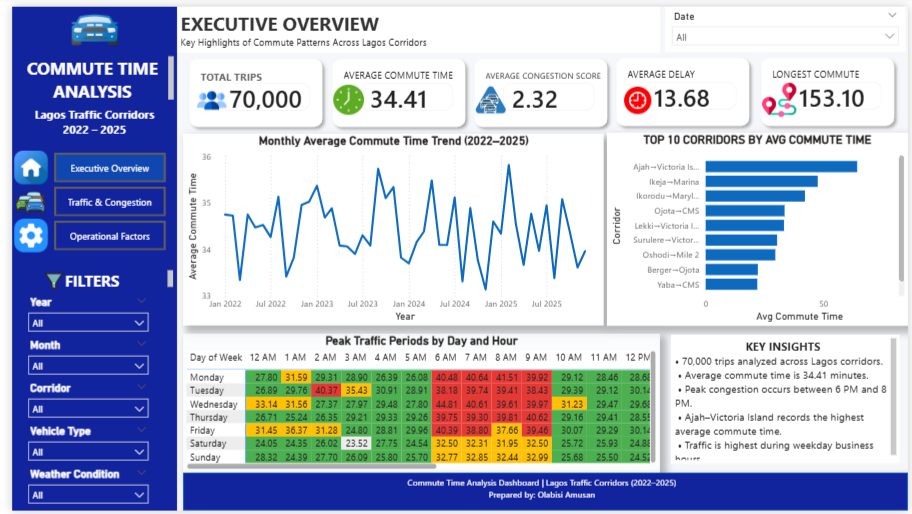

The dashboard page shown, as its layout file describes it:
{"tool":"powerbi","page":{"name":"Executive Overview","canvas":[1280,720],"ordinal":0},"visuals":[{"type":"group","id":"g1","title":"Group 3","box":[0,0,235.4,719.8],"z":0},{"type":"shape","box":[0,0,235.6,720],"z":0,"group":"g1"},{"type":"shape","box":[854.1,64.7,208,115],"z":0,"group":"g5"},{"type":"shape","box":[1061.3,64.8,208,115],"z":0,"group":"g6"},{"type":"shape","box":[651.1,65.2,208,115],"z":0,"group":"g4"},{"type":"shape","box":[448.1,65.7,208,115],"z":0,"group":"g3"},{"type":"shape","box":[245,66.2,208,115],"z":0,"group":"g2"},{"type":"actionButton","box":[60,209.2,159.5,42.4],"z":0,"group":"g10"},{"type":"actionButton","box":[60,257.5,159.5,42.4],"z":0,"group":"g12"},{"type":"actionButton","box":[60,305.8,159.5,42.4],"z":0,"group":"g14"},{"type":"textbox","box":[0,371,235.4,35.8],"z":0,"group":"g15"},{"type":"shape","box":[244.3,665.7,1035.7,54.3],"z":0,"group":"g16"},{"type":"textbox","box":[0,65.9,235.6,73.2],"z":1000,"group":"g1"},{"type":"cardVisual","fields":{"Data":["Measure.Avg Delay"]},"box":[887.1,90.9,165.2,74.3],"z":1000,"group":"g5"},{"type":"cardVisual","fields":{"Data":["Measure.Longest Commute"]},"box":[1094.3,91,165.2,74.3],"z":1000,"group":"g6"},{"type":"cardVisual","fields":{"Data":["Measure.Avg Congestion"]},"box":[684.1,91.4,165.2,74.3],"z":1000,"group":"g4"},{"type":"cardVisual","fields":{"Data":["Measure.Avg Commute Time"]},"box":[481.1,91.9,165.2,74.3],"z":1000,"group":"g3"},{"type":"cardVisual","fields":{"Data":["Measure.Total Trips"]},"box":[278,92.4,165.2,74.3],"z":1000,"group":"g2"},{"type":"lineChart","title":"Monthly Average Commute Time Trend (2022–2025)","fields":{"Y":["Measure.Avg Commute Time"],"Category":["Calendar.Date.Variation.Date Hierarchy.Year","Calendar.Date.Variation.Date Hierarchy.Month"]},"box":[244.3,181.4,601.4,274.3],"z":1000},{"type":"image","box":[0,206.3,54.1,48.3],"z":1000,"group":"g10"},{"type":"image","box":[0,254.6,54.1,48.3],"z":1000,"group":"g12"},{"type":"image","box":[0,302.9,54.1,48.3],"z":1000,"group":"g14"},{"type":"image","box":[35.1,374.6,48.3,32.2],"z":1000,"group":"g15"},{"type":"textbox","box":[245.7,665.7,1022.9,48.6],"z":1000,"group":"g16"},{"type":"image","box":[0,0,235.6,65.9],"z":2000,"group":"g1"},{"type":"textbox","box":[874.7,82.6,177.5,33],"z":2000,"group":"g5"},{"type":"textbox","box":[1081.9,82.7,177.5,33],"z":2000,"group":"g6"},{"type":"textbox","box":[671.7,83.1,177.5,33],"z":2000,"group":"g4"},{"type":"textbox","box":[468.7,83.6,177.5,33],"z":2000,"group":"g3"},{"type":"textbox","box":[265.6,84.1,177.5,33],"z":2000,"group":"g2"},{"type":"clusteredBarChart","title":"TOP 10 CORRIDORS BY AVG COMMUTE TIME","fields":{"Category":["commute.Corridor"],"Y":["Measure.Avg Commute Time"]},"box":[850,180,430,275.7],"z":2000},{"type":"slicer","fields":{"Values":["Calendar.Year"]},"box":[13.2,406.8,191.7,61.5],"z":3000,"group":"g1"},{"type":"pivotTable","title":"Peak Traffic Periods by Day and Hour","fields":{"Rows":["commute.Day of Week"],"Values":["Measure.Avg Commute Time"],"Columns":["commute.Hour Label"]},"box":[244.3,467.1,681.4,198.6],"z":3000},{"type":"slicer","fields":{"Values":["commute.Corridor"]},"box":[13.2,529.8,191.7,61.5],"z":4000,"group":"g1"},{"type":"textbox","box":[236.2,0,689.8,66.2],"z":5000},{"type":"slicer","fields":{"Values":["Calendar.Month"]},"box":[13.2,468.3,191.7,61.5],"z":5000,"group":"g1"},{"type":"slicer","fields":{"Values":["commute.Date"]},"box":[933.1,0,344.2,64.8],"z":6000},{"type":"slicer","fields":{"Values":["commute.Vehicle Type"]},"box":[13.2,591.2,191.7,61.5],"z":6000,"group":"g1"},{"type":"group","id":"g2","title":"Group 4","box":[245,66.2,208,115],"z":6010,"group":"g13"},{"type":"group","id":"g3","title":"Group 4","box":[448.1,65.7,207.8,115.6],"z":6011,"group":"g11"},{"type":"group","id":"g4","title":"Group 4","box":[651.1,65.2,207.8,115.6],"z":6012,"group":"g9"},{"type":"group","id":"g5","title":"Group 4","box":[854.1,64.7,207.8,115.6],"z":6013,"group":"g8"},{"type":"group","id":"g6","title":"Group 4","box":[1061.3,64.8,207.8,115.6],"z":6014,"group":"g7"},{"type":"image","box":[861.2,115.2,64.8,38.9],"z":6019,"group":"g8"},{"type":"image","box":[452.1,110.9,56.2,43.2],"z":6020,"group":"g11"},{"type":"image","box":[1069.1,109.6,54.7,49],"z":6021,"group":"g7"},{"type":"image","box":[265,105.1,41.8,59],"z":6022,"group":"g13"},{"type":"image","box":[652.3,108,61.9,47.5],"z":6023,"group":"g9"},{"type":"group","id":"g7","title":"Group 5","box":[1061.3,64.8,207.4,115.2],"z":7000},{"type":"slicer","fields":{"Values":["commute.Weather Condition"]},"box":[13.2,652.7,191.7,61.5],"z":7000,"group":"g1"},{"type":"group","id":"g8","title":"Group 6","box":[854.1,64.7,207.8,115.6],"z":8000},{"type":"textbox","box":[0,139,235.6,55.6],"z":8000,"group":"g1"},{"type":"group","id":"g9","title":"Group 7","box":[651.1,65.2,207.8,115.6],"z":9000},{"type":"group","id":"g10","title":"Group 1","box":[0,206.3,219.5,48.3],"z":9000,"group":"g1"},{"type":"group","id":"g11","title":"Group 8","box":[448.1,65.7,207.8,115.6],"z":10000},{"type":"group","id":"g12","title":"Group 1","box":[0,254.6,219.5,48.3],"z":10000,"group":"g1"},{"type":"group","id":"g13","title":"Group 9","box":[245,66.2,208,115],"z":11000},{"type":"group","id":"g14","title":"Group 1","box":[0,302.9,219.5,48.3],"z":11000,"group":"g1"},{"type":"group","id":"g15","title":"Group 2","box":[0,371,235.4,35.8],"z":12000,"group":"g1"},{"type":"textbox","box":[941.4,468.6,327.1,184.3],"z":12000},{"type":"group","id":"g16","title":"Group 10","box":[244.3,665.7,1035.7,54.3],"z":12001}]}

Visuals, with their boxes in screenshot pixels (x1, y1, x2, y2), scaled from the page's 1280x720 canvas onto the 912x514 screenshot:
"Group 3" group: [0, 0, 168, 513]
shape: [0, 0, 168, 513]
shape: [609, 46, 757, 128]
shape: [756, 46, 904, 128]
shape: [464, 47, 612, 129]
shape: [319, 47, 467, 129]
shape: [175, 47, 323, 129]
actionButton: [43, 149, 156, 180]
actionButton: [43, 184, 156, 214]
actionButton: [43, 218, 156, 249]
textbox: [0, 265, 168, 290]
shape: [174, 475, 911, 513]
textbox: [0, 47, 168, 99]
cardVisual - Measure.Avg Delay: [632, 65, 750, 118]
cardVisual - Measure.Longest Commute: [780, 65, 897, 118]
cardVisual - Measure.Avg Congestion: [487, 65, 605, 118]
cardVisual - Measure.Avg Commute Time: [343, 66, 460, 119]
cardVisual - Measure.Total Trips: [198, 66, 316, 119]
"Monthly Average Commute Time Trend (2022–2025)" lineChart: [174, 129, 603, 325]
image: [0, 147, 39, 182]
image: [0, 182, 39, 216]
image: [0, 216, 39, 251]
image: [25, 267, 59, 290]
textbox: [175, 475, 904, 510]
image: [0, 0, 168, 47]
textbox: [623, 59, 750, 83]
textbox: [771, 59, 897, 83]
textbox: [479, 59, 605, 83]
textbox: [334, 60, 460, 83]
textbox: [189, 60, 316, 84]
"TOP 10 CORRIDORS BY AVG COMMUTE TIME" clusteredBarChart: [606, 128, 911, 325]
slicer - Calendar.Year: [9, 290, 146, 334]
"Peak Traffic Periods by Day and Hour" pivotTable: [174, 333, 660, 475]
slicer - commute.Corridor: [9, 378, 146, 422]
textbox: [168, 0, 660, 47]
slicer - Calendar.Month: [9, 334, 146, 378]
slicer - commute.Date: [665, 0, 910, 46]
slicer - commute.Vehicle Type: [9, 422, 146, 466]
"Group 4" group: [175, 47, 323, 129]
"Group 4" group: [319, 47, 467, 129]
"Group 4" group: [464, 47, 612, 129]
"Group 4" group: [609, 46, 757, 129]
"Group 4" group: [756, 46, 904, 129]
image: [614, 82, 660, 110]
image: [322, 79, 362, 110]
image: [762, 78, 801, 113]
image: [189, 75, 219, 117]
image: [465, 77, 509, 111]
"Group 5" group: [756, 46, 904, 128]
slicer - commute.Weather Condition: [9, 466, 146, 510]
"Group 6" group: [609, 46, 757, 129]
textbox: [0, 99, 168, 139]
"Group 7" group: [464, 47, 612, 129]
"Group 1" group: [0, 147, 156, 182]
"Group 8" group: [319, 47, 467, 129]
"Group 1" group: [0, 182, 156, 216]
"Group 9" group: [175, 47, 323, 129]
"Group 1" group: [0, 216, 156, 251]
"Group 2" group: [0, 265, 168, 290]
textbox: [671, 335, 904, 466]
"Group 10" group: [174, 475, 911, 513]
